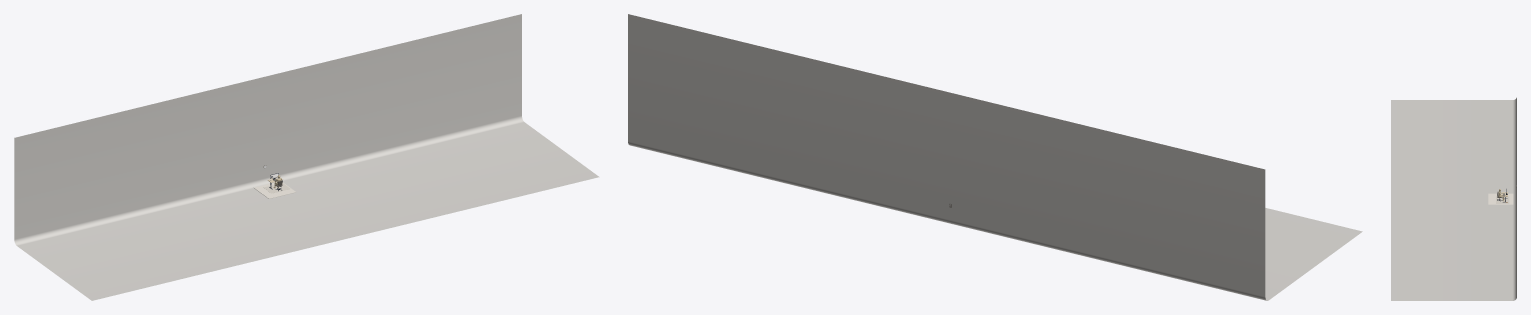
Rendered from desk-scene.glb.
3 views of the same model, side by side, from view 1: azimuth 30°, elevation 25°; view 2: azimuth 150°, elevation 25°; view 3: azimuth 270°, elevation 25° (orthographic). The views are drawn at different scales.
Parts seen in each view (by area): view 1: GEO-backdrop; view 2: GEO-backdrop; view 3: GEO-backdrop, GEO-slab.
Boxes of the visible parts, x1,y1,x2,y2 form: GEO-backdrop: [14, 14, 599, 300]; GEO-backdrop: [628, 14, 1362, 300]; GEO-backdrop: [1391, 97, 1516, 300]; GEO-slab: [1488, 193, 1513, 204].
Bounding box in the file's own units: 50 × 10.01 × 13.25.
Materials: 20 (3 with a texture image).
